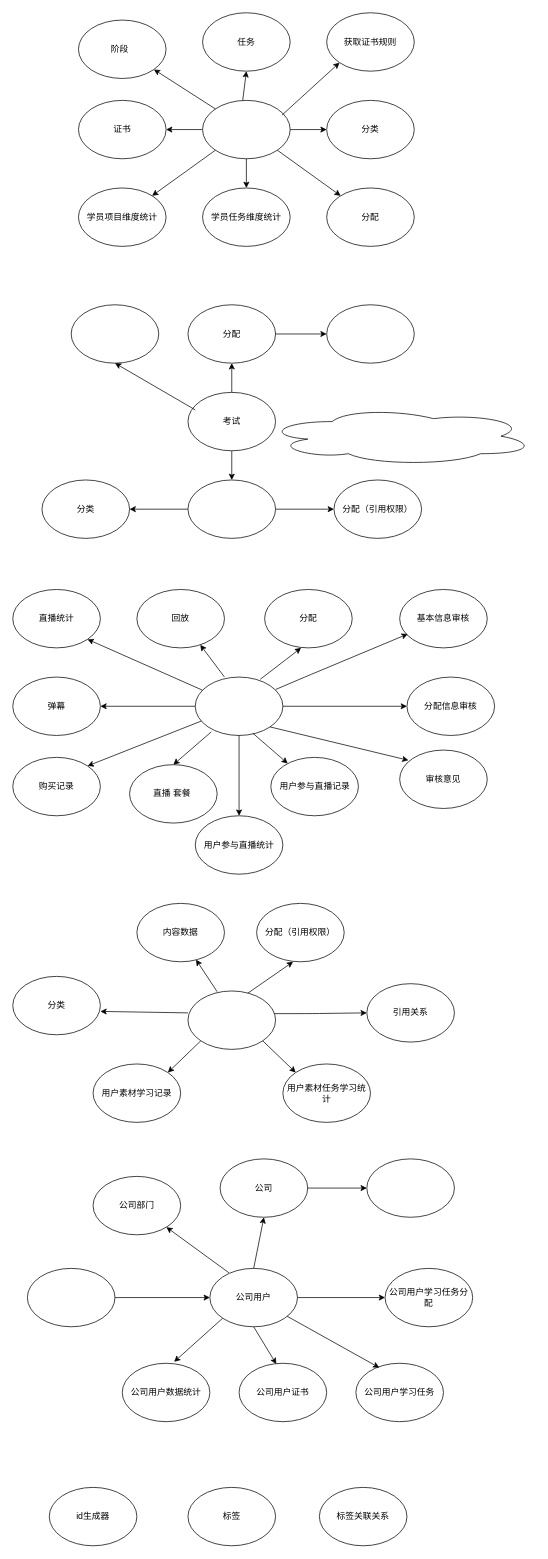
Image size: 548x1559. Some labels were removed from this diagram. The box of each missing label's shape, as (x1, y1, x2, y2) in pixels:
公司审核: (366, 1158, 454, 1217)
学习项目: (202, 100, 290, 159)
学员考试记录: (70, 304, 159, 363)
学员身份认证: (326, 304, 414, 363)
用户: (27, 1268, 115, 1327)
直播: (195, 676, 283, 735)
素材: (187, 990, 276, 1049)
考试试题关系、试题具体内容、试题引用关系存mongo: (264, 406, 535, 465)
试题: (187, 479, 276, 538)
